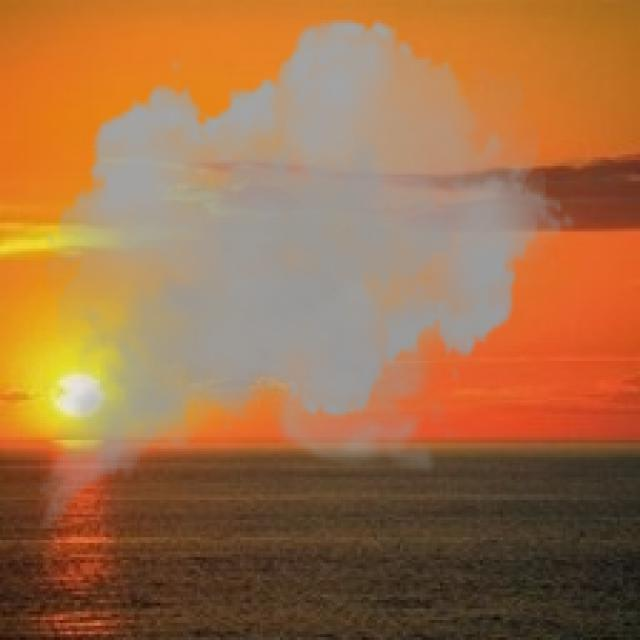Smoke: (25, 3, 578, 560)
